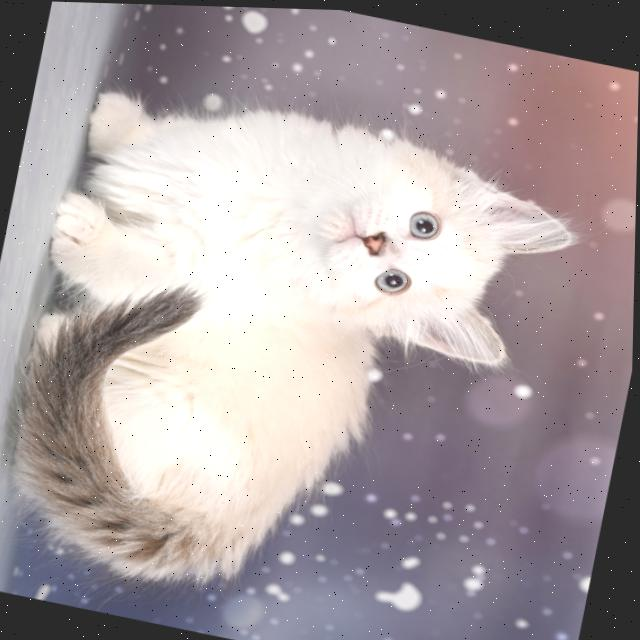Munchkin: (0, 54, 596, 640)
